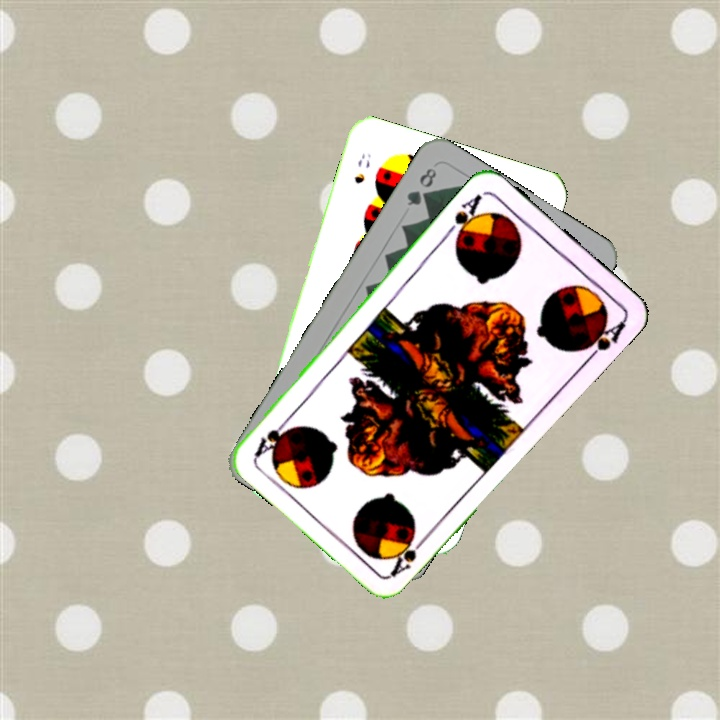G8: (402, 163, 440, 209)
S8: (350, 149, 374, 186)
SA: (442, 190, 485, 244), (386, 530, 432, 579)
